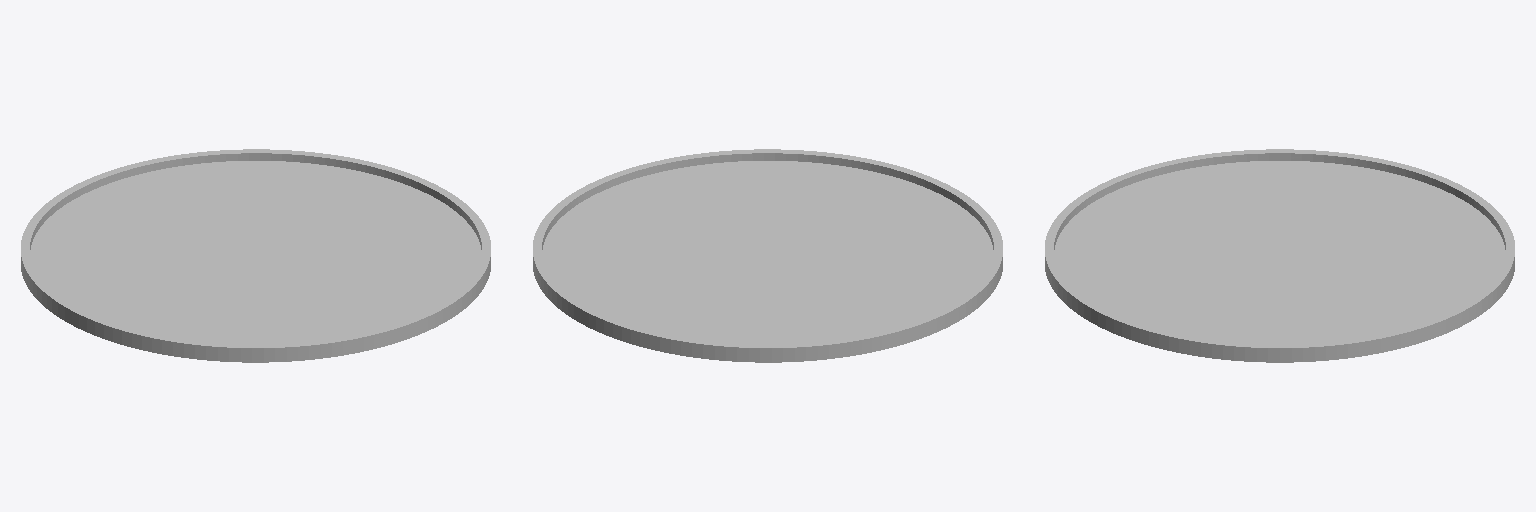
The model's file is round_mirror.obj.
3 views of the same model, side by side, from view 1: azimuth 30°, elevation 25°; view 2: azimuth 150°, elevation 25°; view 3: azimuth 270°, elevation 25° (orthographic).
Parts seen in each view (by area): view 1: round_mirror; view 2: round_mirror; view 3: round_mirror.
Boxes of the visible parts, <box> form: round_mirror: <box>21,149,490,362</box>; round_mirror: <box>533,149,1002,362</box>; round_mirror: <box>1045,149,1514,362</box>.
Size of the model in its own units: 1.13 by 0.0381 by 1.13.